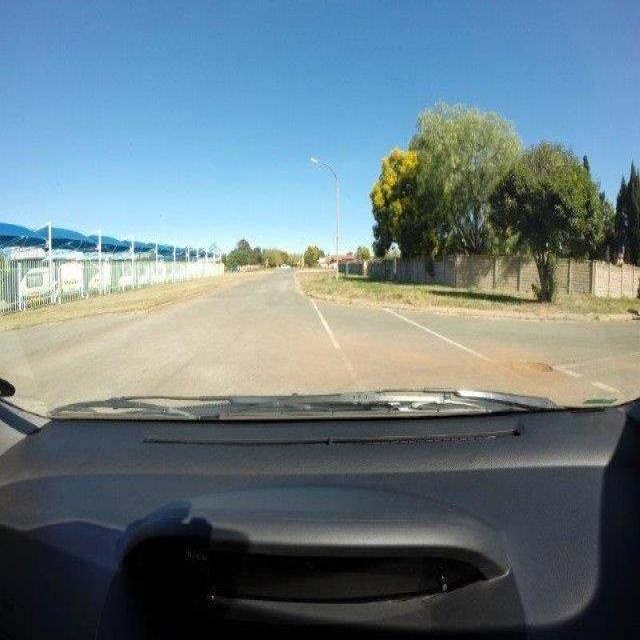lubang: (522, 354, 552, 378)
